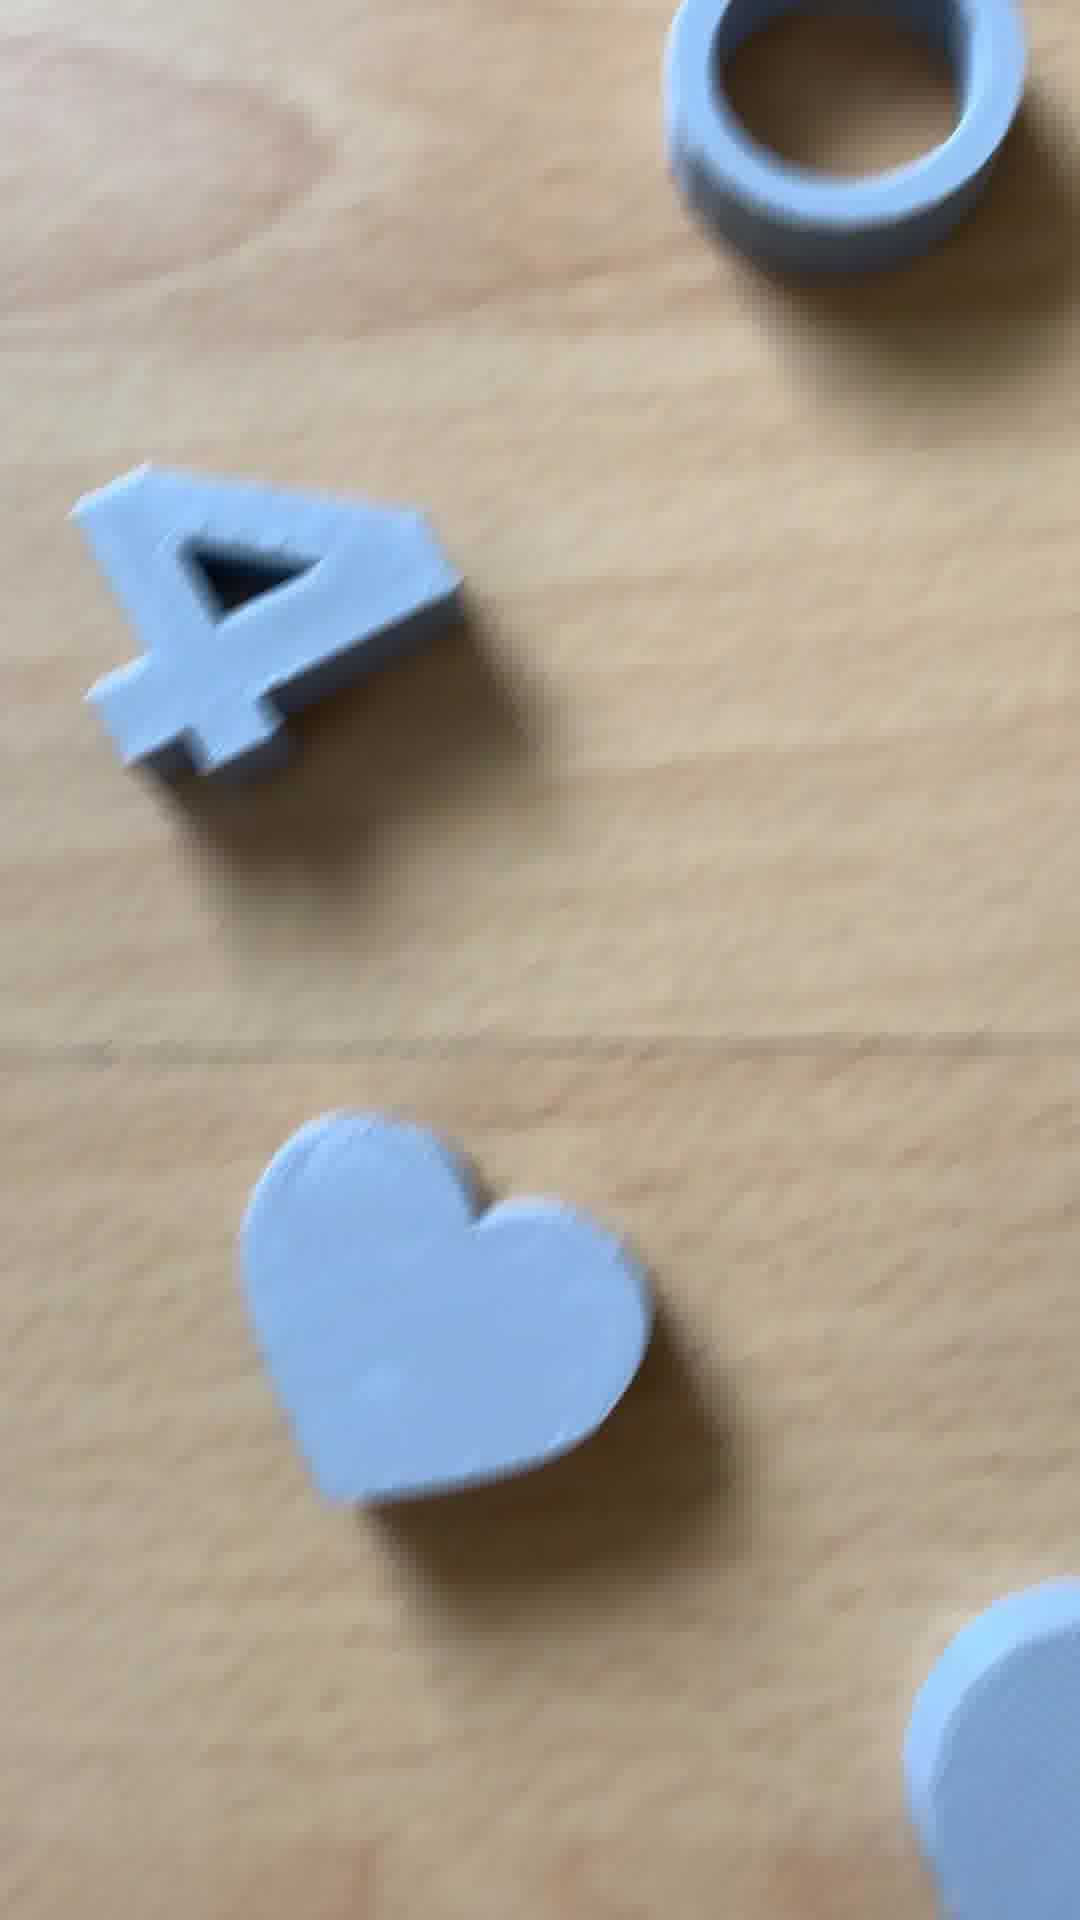Gray four: (73, 467, 444, 760)
Gray heart: (222, 1079, 683, 1552)
Gray ring: (649, 1, 1077, 272)
